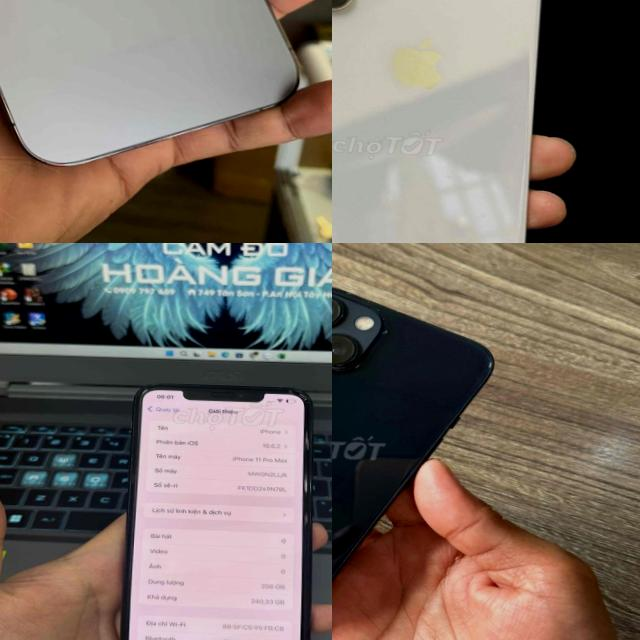gen_11: (120, 385, 311, 640)
gen_12_13: (332, 279, 499, 640), (0, 0, 315, 172)
gen_x_xs: (332, 0, 539, 243)
scratch: (337, 0, 358, 14)
